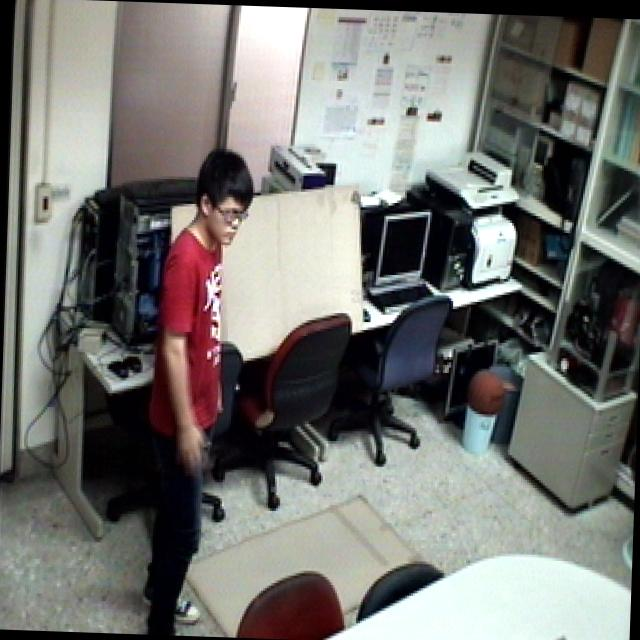stand: (118, 128, 259, 638)
